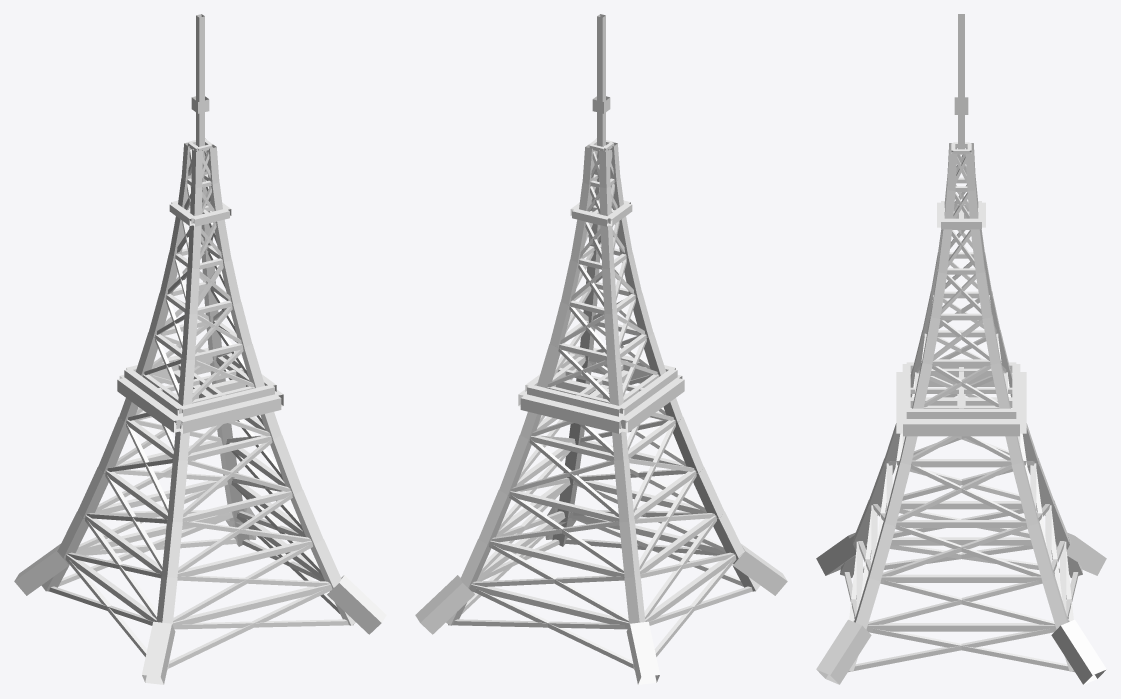
Rendered from tower.obj.
3 renders of one model, left to right at view 1: azimuth 30°, elevation 25°; view 2: azimuth 150°, elevation 25°; view 3: azimuth 270°, elevation 25°, orthographic. The views are drawn at different scales.
Visible parts, largest first — view 1: tower; view 2: tower; view 3: tower.
Boxes of the visible parts, x1,y1,x2,y2 form: tower: (14,14,386,684); tower: (415,14,787,684); tower: (816,14,1106,684).
Size of the model in its own units: 0.4353 by 1.01 by 0.4353.
